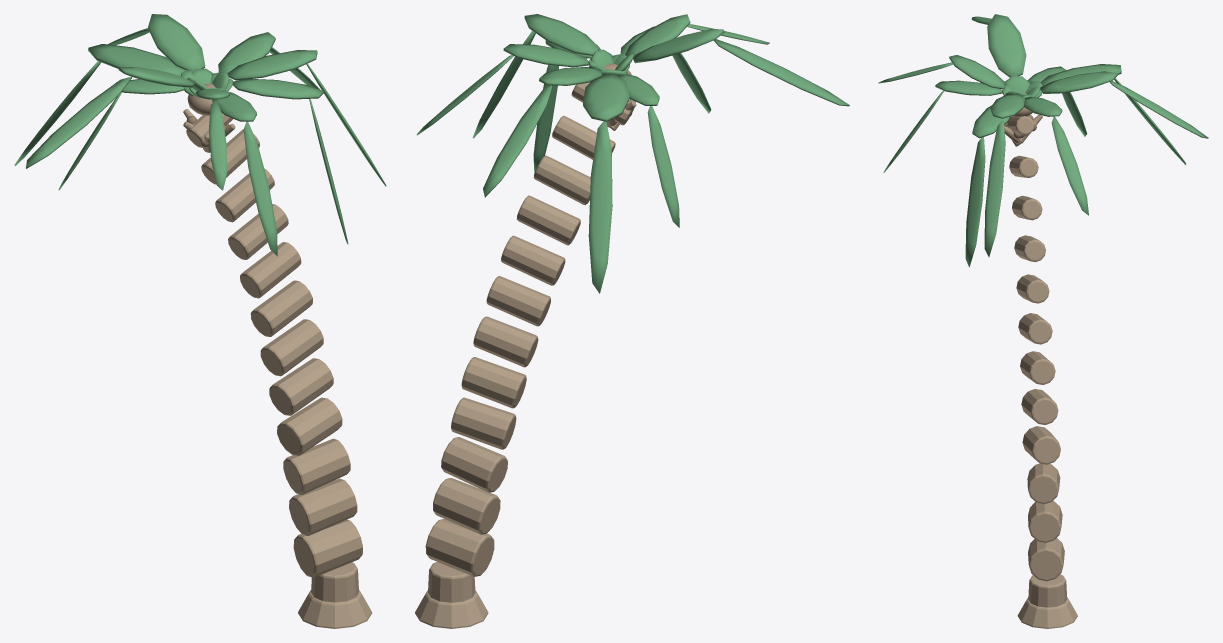
Rendered from palm_tall.glb.
3 renders of one model, left to right at view 1: azimuth 30°, elevation 25°; view 2: azimuth 150°, elevation 25°; view 3: azimuth 270°, elevation 25°, orthographic. The views are drawn at different scales.
Visible parts, largest first — view 1: palm_tall_trunk1, palm_tall_trunk2, palm_tall_trunk3, palm_tall_trunk4, palm_tall_trunk5, palm_tall_trunk6, palm_tall_frond2_s1, palm_tall_trunk7, palm_tall_root_flare, palm_tall_trunk8, palm_tall_frond7_s2, palm_tall_frond5_s2 (+16 smaller); view 2: palm_tall_frond3_s2, palm_tall_trunk1, palm_tall_trunk2, palm_tall_trunk3, palm_tall_trunk4, palm_tall_trunk5, palm_tall_trunk6, palm_tall_trunk7, palm_tall_trunk8, palm_tall_frond2_s2, palm_tall_root_flare, palm_tall_trunk9 (+16 smaller); view 3: palm_tall_frond5_s1, palm_tall_frond0_s2, palm_tall_frond8_s2, palm_tall_trunk1, palm_tall_root_flare, palm_tall_trunk2, palm_tall_frond1_s2, palm_tall_trunk3, palm_tall_trunk4, palm_tall_trunk0, palm_tall_frond2_s1, palm_tall_trunk5 (+13 smaller).
Part boxes in pixels (bbox=[...]): palm_tall_trunk1: bbox=[293, 519, 362, 577]; palm_tall_trunk2: bbox=[289, 478, 357, 535]; palm_tall_trunk3: bbox=[283, 438, 350, 494]; palm_tall_trunk4: bbox=[277, 397, 342, 455]; palm_tall_trunk5: bbox=[269, 358, 333, 415]; palm_tall_trunk6: bbox=[260, 319, 323, 376]; palm_tall_frond2_s1: bbox=[148, 14, 205, 70]; palm_tall_trunk7: bbox=[250, 280, 312, 336]; palm_tall_root_flare: bbox=[298, 590, 371, 628]; palm_tall_trunk8: bbox=[240, 242, 301, 298]; palm_tall_frond7_s2: bbox=[243, 121, 277, 256]; palm_tall_frond5_s2: bbox=[26, 76, 132, 168]; palm_tall_frond3_s2: bbox=[588, 121, 612, 293]; palm_tall_trunk1: bbox=[425, 519, 494, 576]; palm_tall_trunk2: bbox=[433, 478, 500, 534]; palm_tall_trunk3: bbox=[441, 437, 507, 492]; palm_tall_trunk4: bbox=[451, 397, 516, 449]; palm_tall_trunk5: bbox=[461, 357, 526, 408]; palm_tall_trunk6: bbox=[473, 316, 538, 367]; palm_tall_trunk7: bbox=[486, 276, 550, 326]; palm_tall_trunk8: bbox=[501, 235, 565, 285]; palm_tall_frond2_s2: bbox=[483, 85, 552, 197]; palm_tall_root_flare: bbox=[415, 590, 488, 628]; palm_tall_trunk9: bbox=[516, 195, 580, 245]; palm_tall_frond5_s1: bbox=[987, 14, 1026, 77]; palm_tall_frond0_s2: bbox=[984, 118, 1005, 257]; palm_tall_frond8_s2: bbox=[965, 137, 985, 267]; palm_tall_trunk1: bbox=[1028, 538, 1064, 581]; palm_tall_root_flare: bbox=[1017, 597, 1077, 628]; palm_tall_trunk2: bbox=[1028, 500, 1062, 542]; palm_tall_frond1_s2: bbox=[1051, 116, 1088, 215]; palm_tall_trunk3: bbox=[1027, 463, 1060, 504]; palm_tall_trunk4: bbox=[1022, 426, 1060, 464]; palm_tall_trunk0: bbox=[1028, 574, 1067, 607]; palm_tall_frond2_s1: bbox=[1040, 71, 1117, 93]; palm_tall_trunk5: bbox=[1021, 389, 1058, 424].
Bounding box in the file's own units: 7.14 × 11.01 × 6.51.
